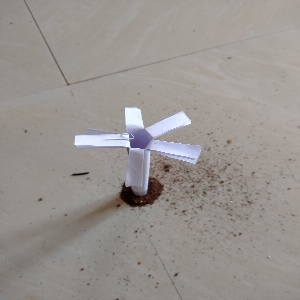weed: (72, 103, 202, 192)
